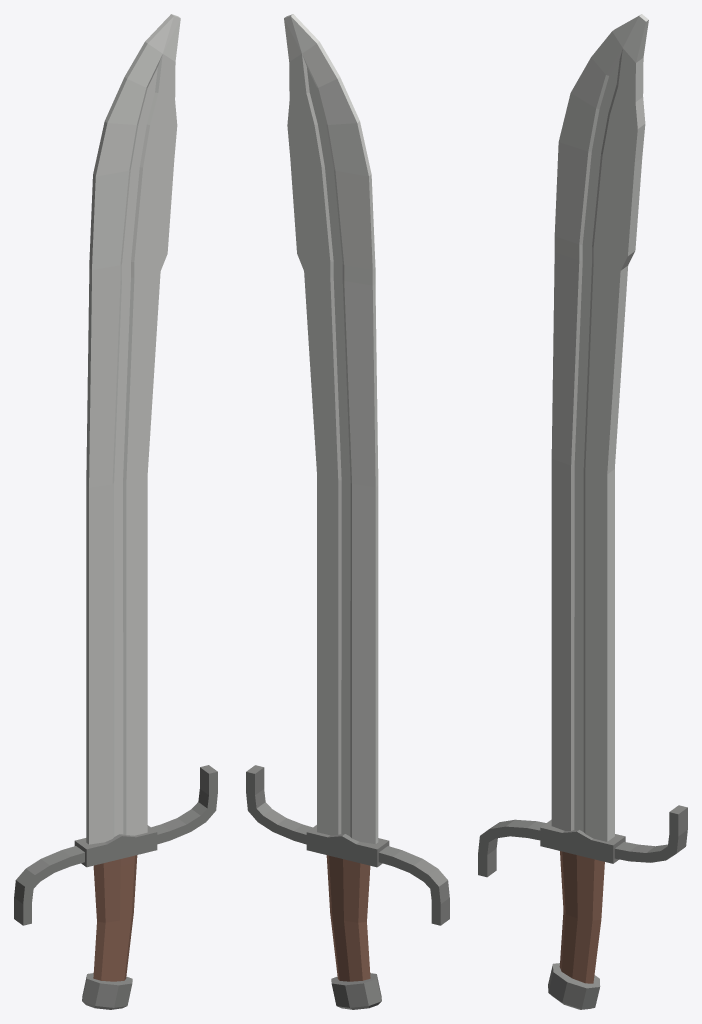
The model's file is sword3.glb.
3 renders of one model, left to right at view 1: azimuth 30°, elevation 25°; view 2: azimuth 150°, elevation 25°; view 3: azimuth 330°, elevation 25°, orthographic. The views are drawn at different scales.
Parts seen in each view (by area): view 1: Falchion; view 2: Falchion; view 3: Falchion.
Boxes of the visible parts, x1,y1,x2,y2 form: Falchion: (14, 14, 217, 1009); Falchion: (246, 14, 449, 1009); Falchion: (478, 14, 687, 1009).
Size of the model in its own units: 0.3384 by 1.62 by 0.0547.
